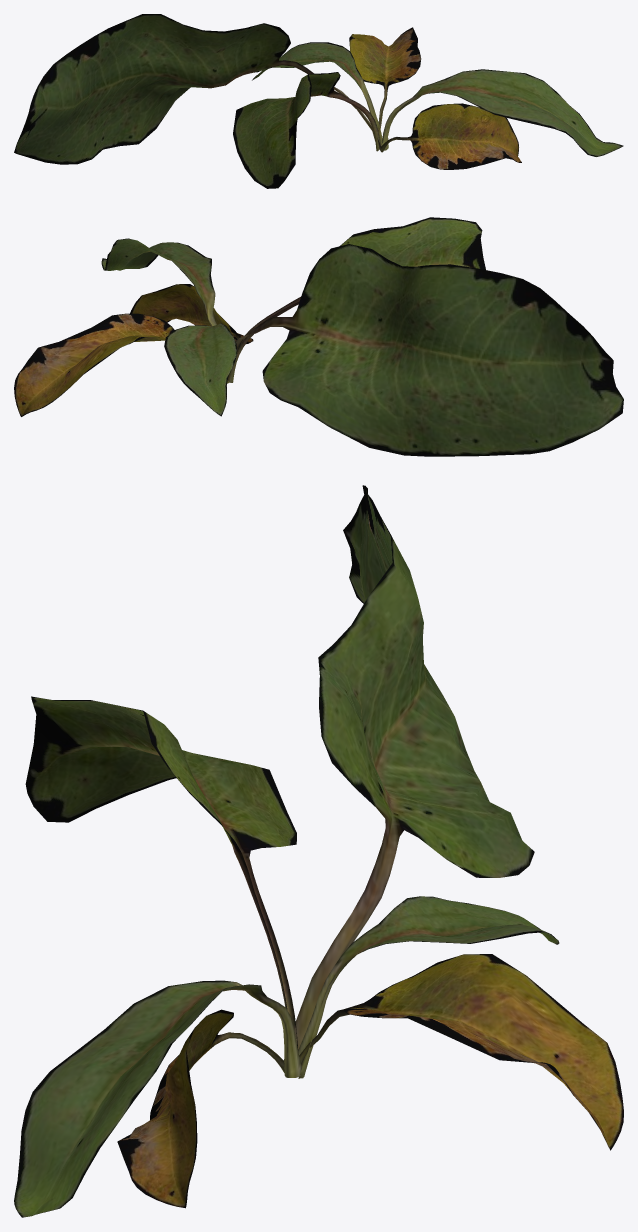
File: weed_plant_02_e.gltf
3 views of the same model, one above another, from view 1: azimuth 30°, elevation 25°; view 2: azimuth 150°, elevation 25°; view 3: azimuth 270°, elevation 25° (orthographic). The views are drawn at different scales.
Visible parts, largest first — view 1: weed_plant_02_e_LOD0; view 2: weed_plant_02_e_LOD0; view 3: weed_plant_02_e_LOD0.
Part boxes in pixels (x1,y1,x2,y2): weed_plant_02_e_LOD0: (14, 14, 623, 188); weed_plant_02_e_LOD0: (14, 217, 623, 456); weed_plant_02_e_LOD0: (14, 485, 623, 1217).
Bounding box in the file's own units: 0.1192 × 0.0401 × 0.061.
Materials: 1 (1 with a texture image).
